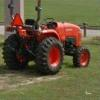Tractor: (9, 5, 89, 74)
